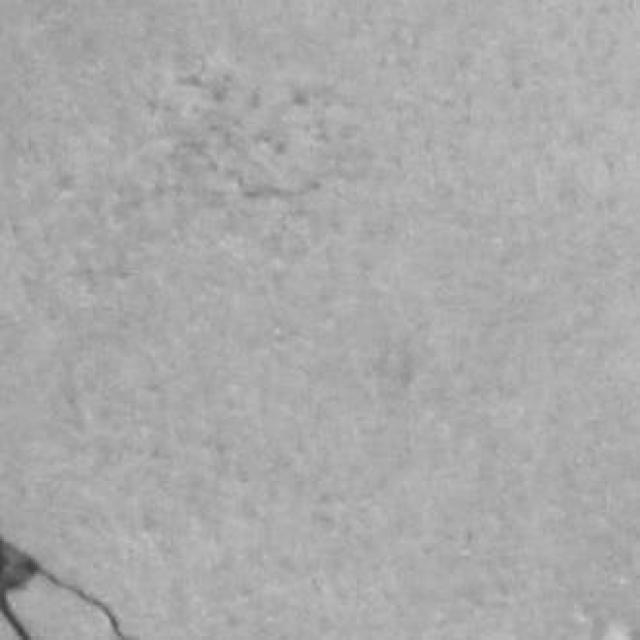crack: (0, 538, 133, 639)
